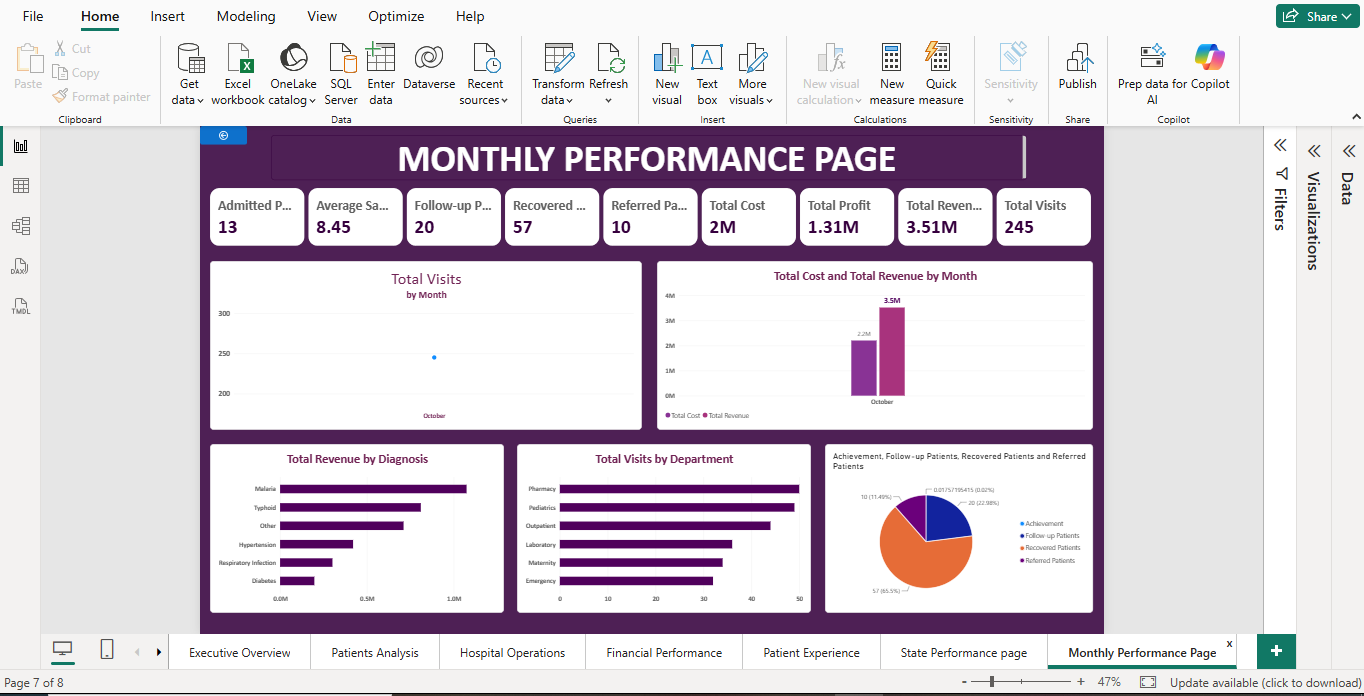

The page's visual inventory and layout, read from the dashboard file:
{"tool":"powerbi","page":{"name":"Monthly Performance Page","canvas":[1920,1080],"ordinal":6},"visuals":[{"type":"actionButton","box":[0,0,100,40],"z":0},{"type":"textbox","box":[150.9,19.1,1607.2,95.7],"z":1},{"type":"cardVisual","fields":{"Data":["All Measures.Admitted Patients","All Measures.Average Satisfaction Score","All Measures.Follow-up Patients","All Measures.Recovered Patients","All Measures.Referred Patients","All Measures.Total Cost","All Measures.Total Profit","All Measures.Total Revenue","All Measures.Total Visits"]},"box":[21.3,131.8,1877.2,123.3],"z":2},{"type":"lineChart","fields":{"Category":["Date_Table.Month"],"Y":["All Measures.Total Visits"]},"box":[21.3,287,918.4,359.3],"z":3},{"type":"clusteredBarChart","fields":{"Category":["Patient_Visits.Diagnosis"],"Y":["All Measures.Total Revenue"]},"box":[21.3,676.1,625,359.3],"z":4},{"type":"clusteredBarChart","fields":{"Category":["Patient_Visits.Department"],"Y":["All Measures.Total Visits"]},"box":[673.9,676.1,625,359.3],"z":5},{"type":"clusteredColumnChart","fields":{"Category":["Date_Table.Month"],"Y":["All Measures.Total Cost","All Measures.Total Revenue"]},"box":[971.6,287,926.9,359.3],"z":6},{"type":"pieChart","fields":{"Y":["All Measures.Achievement","All Measures.Follow-up Patients","All Measures.Recovered Patients","All Measures.Referred Patients"]},"box":[1328.7,676.1,569.8,359.3],"z":7}]}

Visuals, with their boxes on the page's 1920x1080 design canvas (x1, y1, x2, y2). These are canvas units, not pixel positions in the 1364x696 screenshot, which may show the page scaled, cropped or inside an application window:
actionButton: [0,0,100,40]
textbox: [151,19,1758,115]
cardVisual - All Measures.Admitted Patients x All Measures.Average Satisfaction Score: [21,132,1898,255]
lineChart - Date_Table.Month x All Measures.Total Visits: [21,287,940,646]
clusteredBarChart - Patient_Visits.Diagnosis x All Measures.Total Revenue: [21,676,646,1035]
clusteredBarChart - Patient_Visits.Department x All Measures.Total Visits: [674,676,1299,1035]
clusteredColumnChart - Date_Table.Month x All Measures.Total Cost: [972,287,1898,646]
pieChart - All Measures.Achievement x All Measures.Follow-up Patients: [1329,676,1898,1035]
